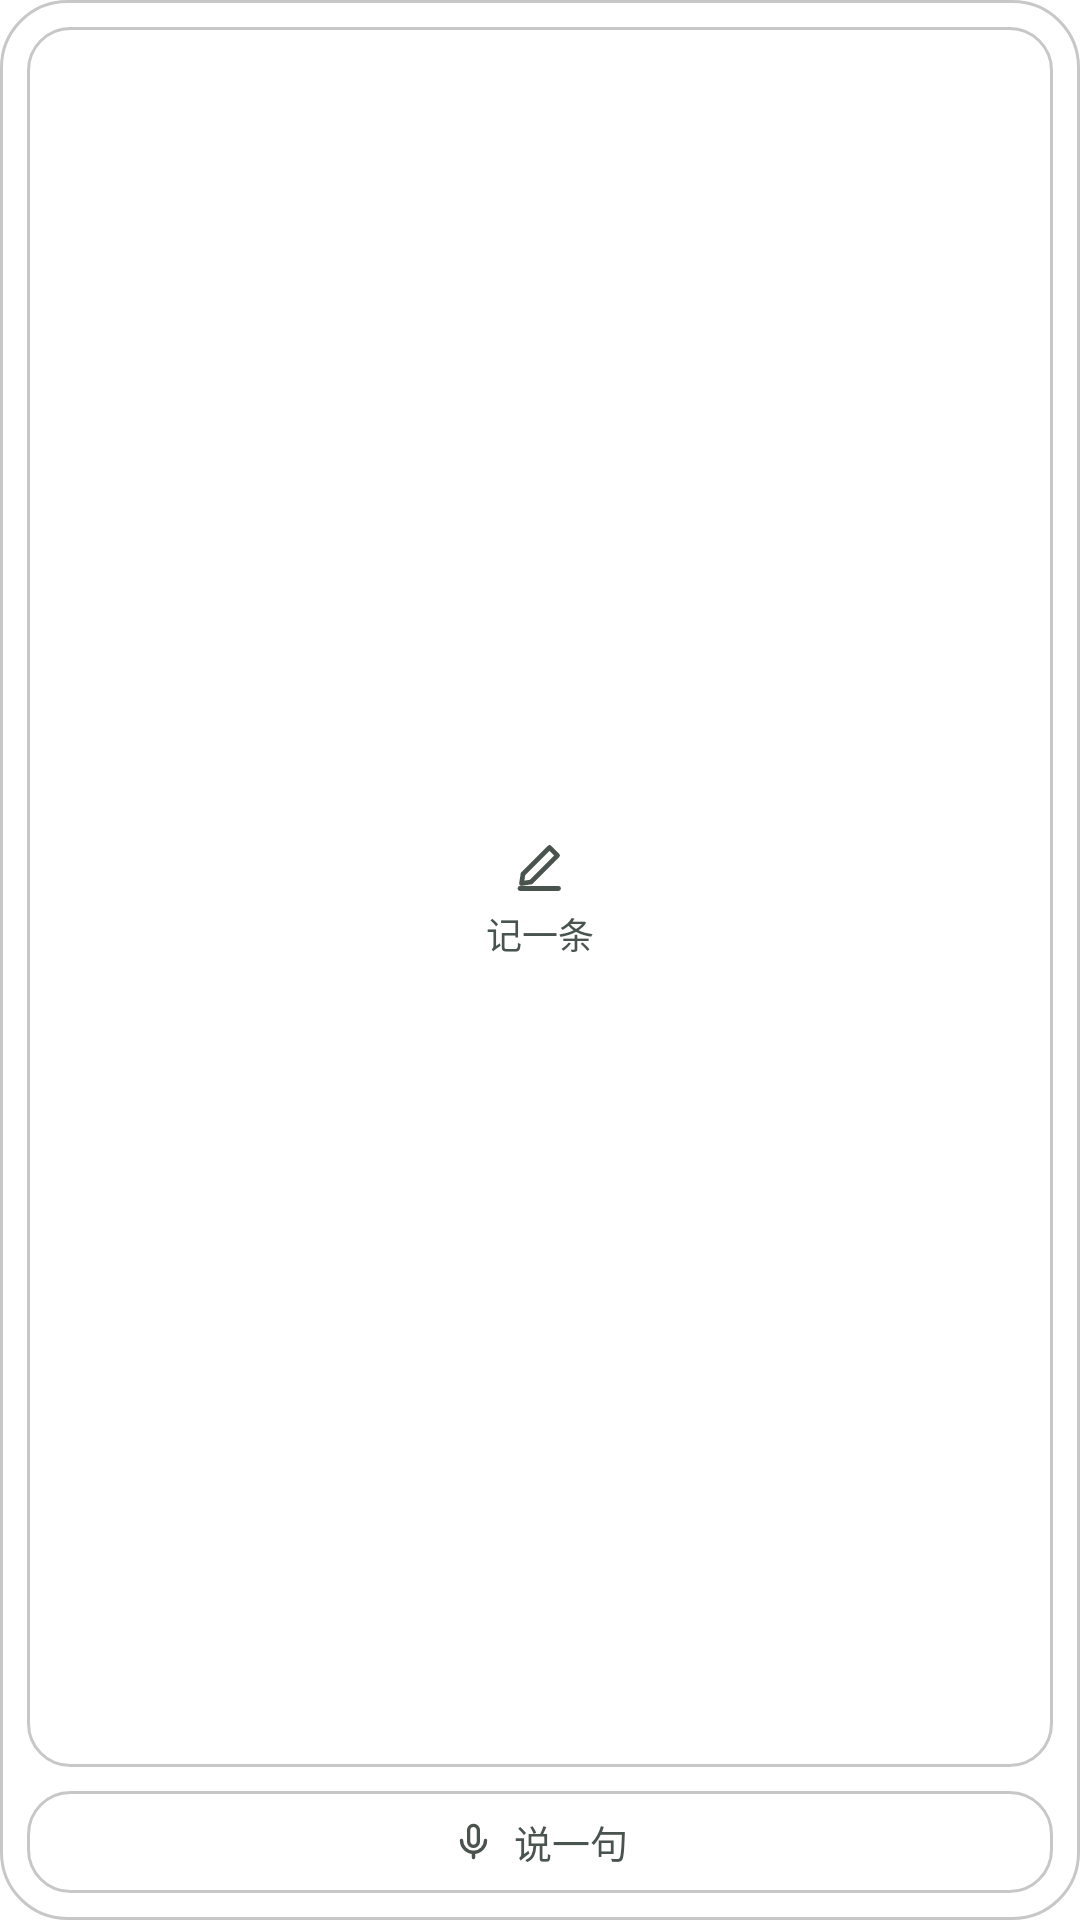

Point at icon controls on the screen. Image size 1080px x 1920px, points as (x=x, y=y).
widget mic: (x=473, y=1841)
